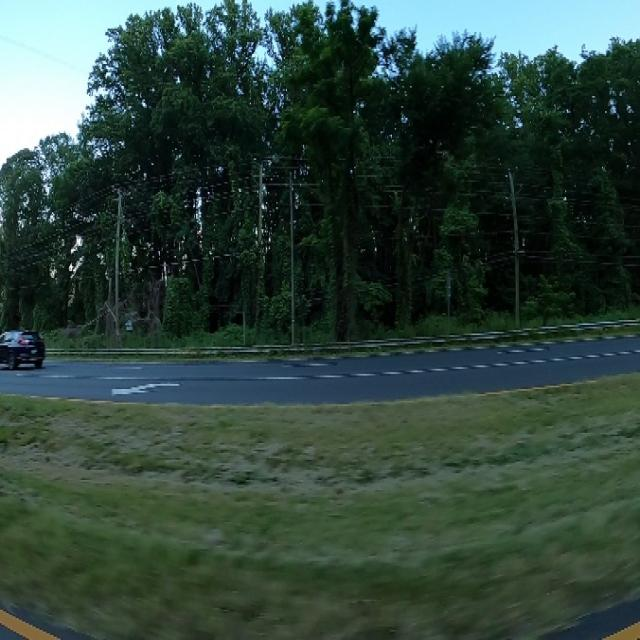cars: (0, 305, 51, 381)
